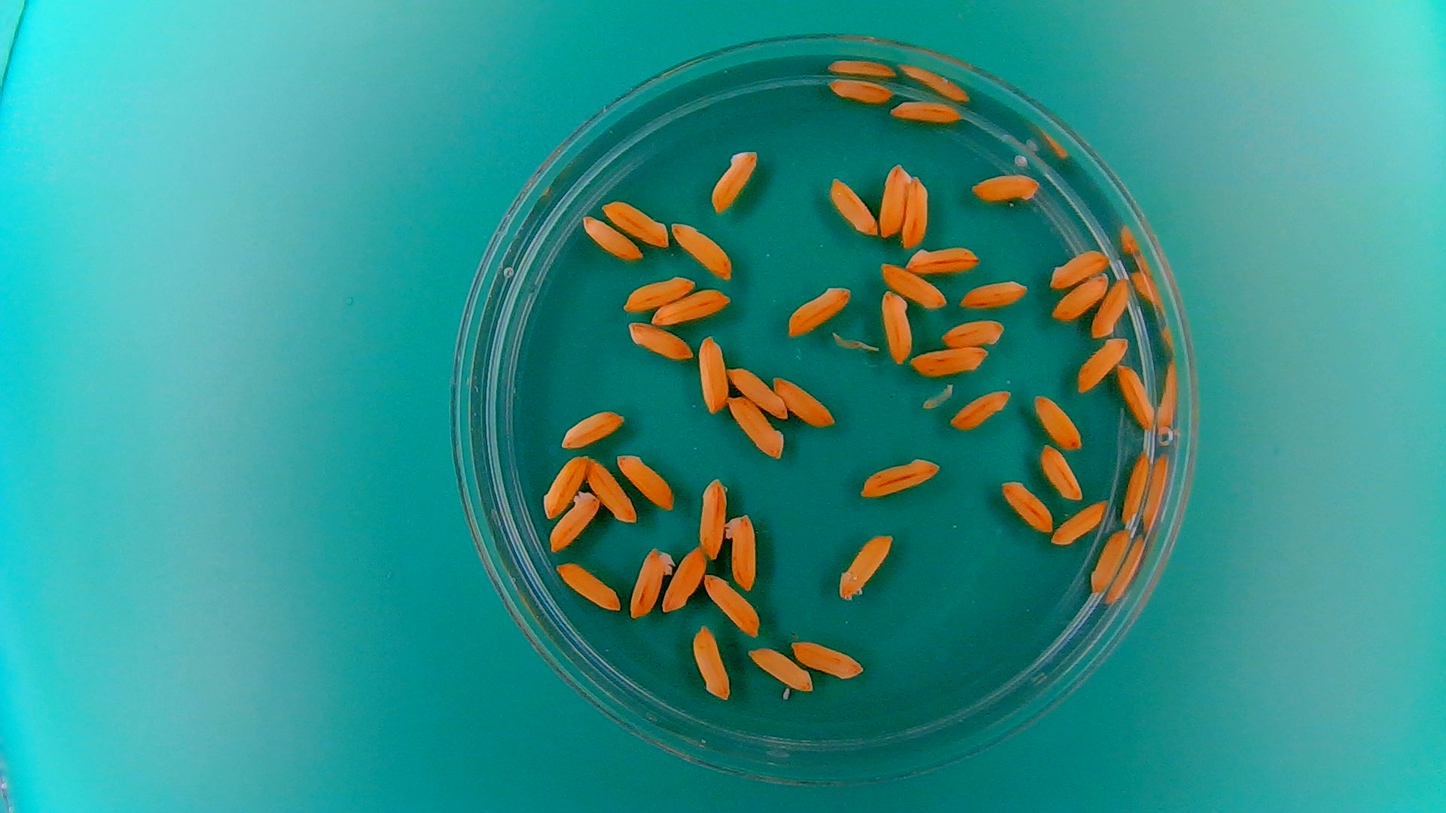no: (836, 529, 895, 604), (724, 391, 785, 460), (668, 218, 734, 280), (701, 570, 762, 637), (785, 281, 854, 339), (857, 453, 943, 499), (615, 451, 677, 511), (584, 455, 637, 525), (770, 373, 837, 428), (627, 544, 674, 622), (547, 488, 602, 554), (554, 560, 623, 612), (725, 363, 789, 419), (877, 258, 947, 309), (600, 197, 670, 247), (708, 145, 758, 214), (540, 451, 589, 520), (691, 622, 733, 702), (660, 544, 707, 615), (746, 644, 813, 693), (826, 175, 878, 238), (789, 635, 865, 678), (651, 287, 732, 327), (1030, 391, 1084, 450), (997, 477, 1054, 532), (1075, 336, 1130, 392), (876, 157, 913, 239), (1088, 528, 1133, 595), (722, 510, 758, 593), (1115, 362, 1157, 433), (579, 214, 642, 261), (624, 319, 694, 361), (558, 407, 627, 449), (1050, 273, 1109, 322), (1051, 498, 1110, 547), (621, 273, 697, 311), (695, 473, 728, 559), (909, 343, 990, 378), (948, 387, 1012, 431), (882, 287, 917, 367), (697, 332, 730, 416), (1091, 274, 1132, 340), (1047, 248, 1112, 289), (1039, 443, 1084, 501), (969, 170, 1041, 206), (899, 172, 932, 250), (957, 275, 1030, 308), (904, 243, 981, 274), (1119, 451, 1150, 528), (887, 96, 966, 125), (938, 316, 1005, 349), (825, 75, 895, 105), (823, 55, 897, 78)
